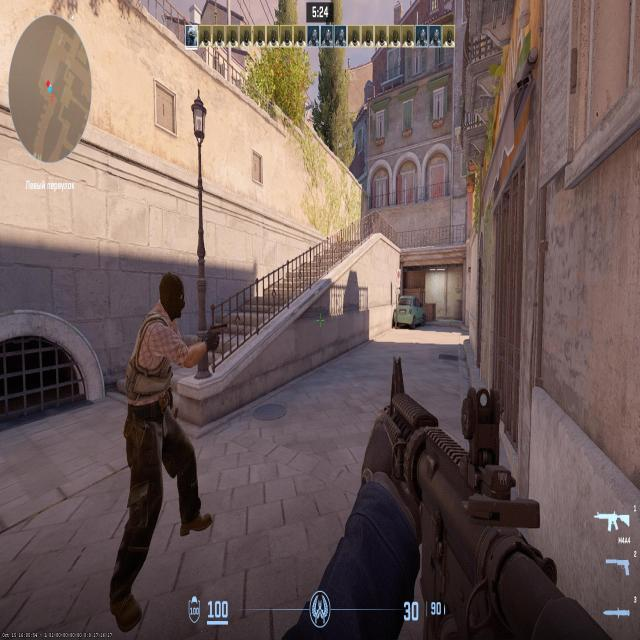T: (148, 275, 185, 516)
T_heat: (166, 277, 177, 318)
